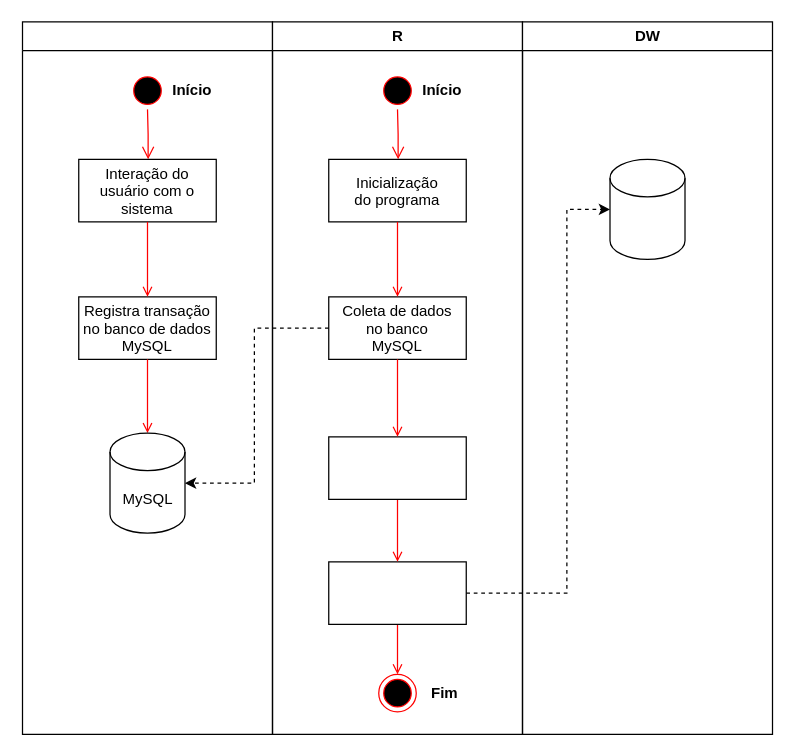
This 794x756 diagram has some shape labels left out. The shapes that lost their labels are listed below. From the top down, each one's box as (x1, y1, x2, y2) in pixels, then its label:
(609, 158, 685, 259): SQL Server
(21, 21, 272, 734): GLPI
(328, 436, 466, 499): Processamento dos dados coletados
(328, 561, 466, 624): Gravação dos dados no DW
